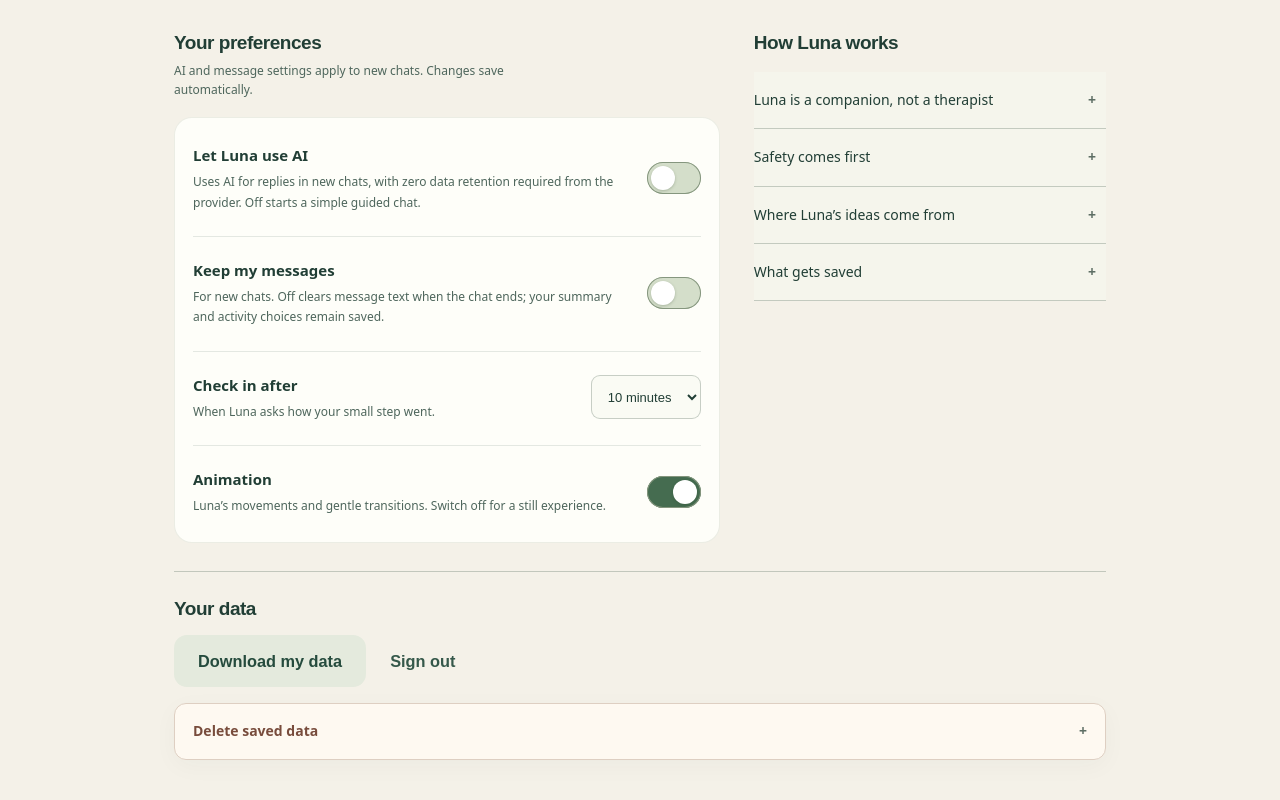
Test: account settings › a failed sign-out stays on the page and reports that the user remains signed in
(page scrolled)
Click the button "Sign out".
click(423, 661)  # box x1=376 y1=639 x2=469 y2=683
(page scrolled)
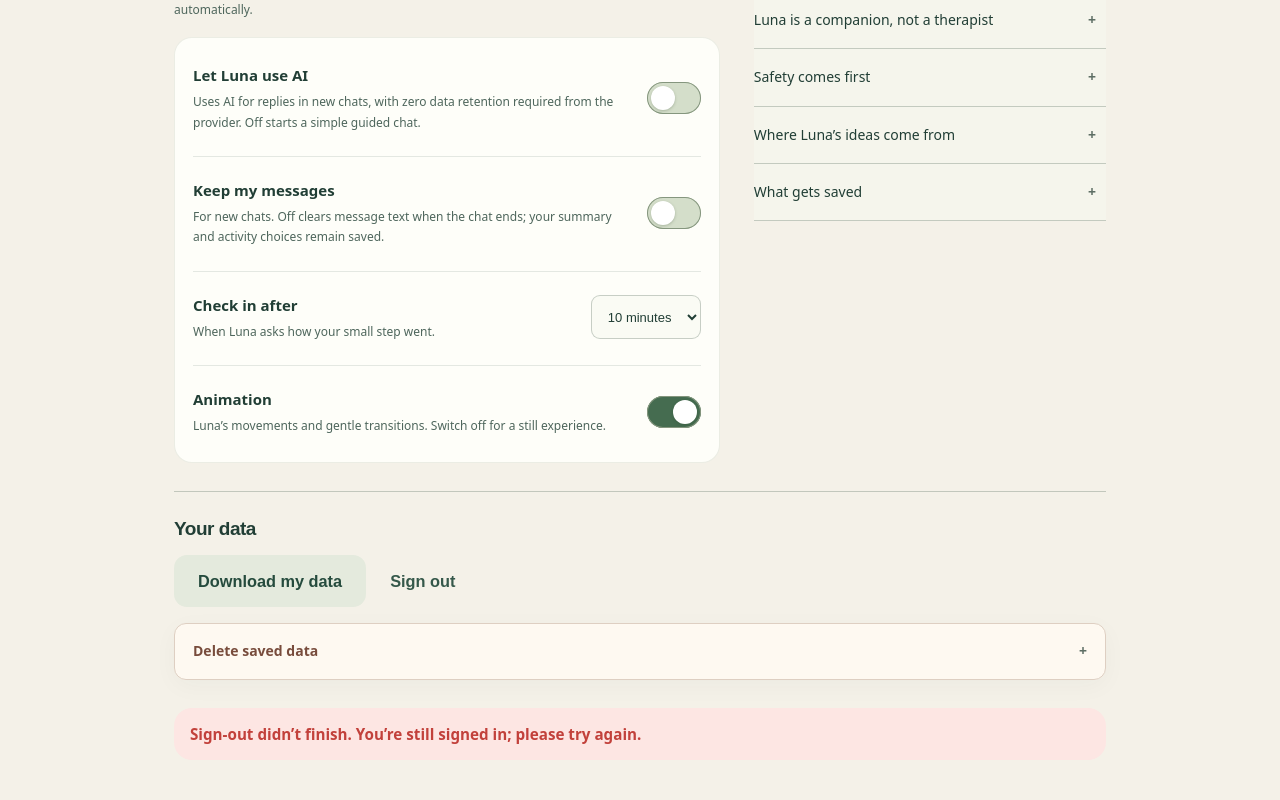
Expected: the message "Sign-out didn’t finish. You’re still signed in; please try again." is shown, x1=174 y1=708 x2=1106 y2=760
